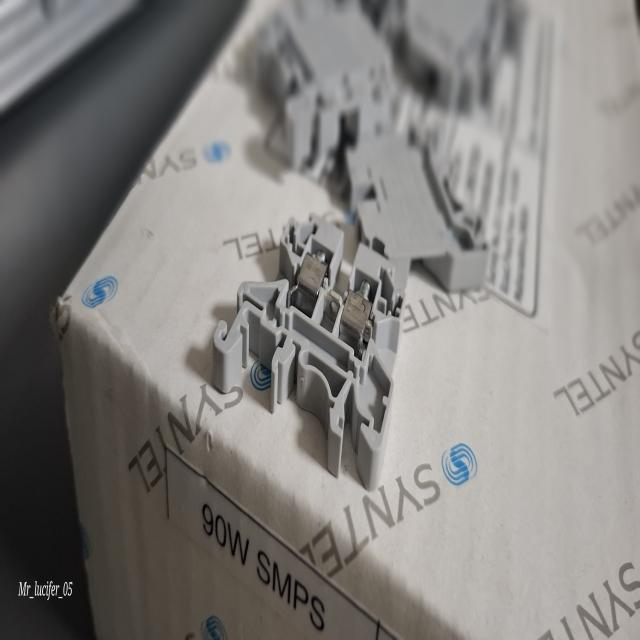Pass: (212, 123, 416, 509)
